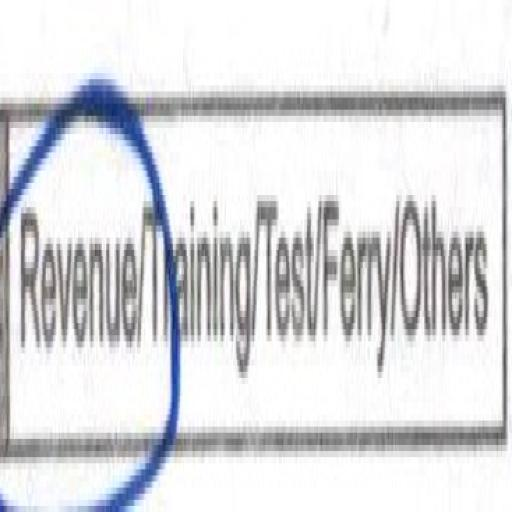check: (0, 84, 139, 512)
